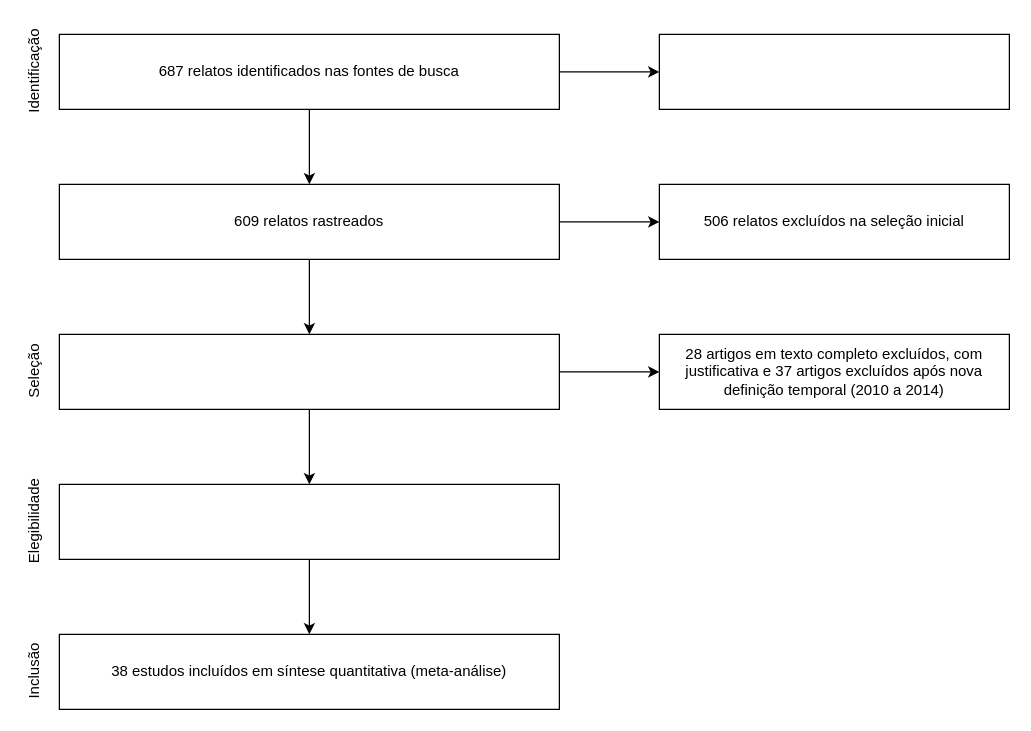
Some shapes in this 1031 by 731 pixel diagram are drawn without their labels. The shapes that lost their labels are listed below. From the top down, each one's centre as x and y in pixels, then its label:
At [833,71]: "75 relatos duplicados".
At [308,371]: "103 artigos em texto completo avaliados para elegibilidade".
At [308,521]: "38 estudos incluídos em síntese qualitativa".
